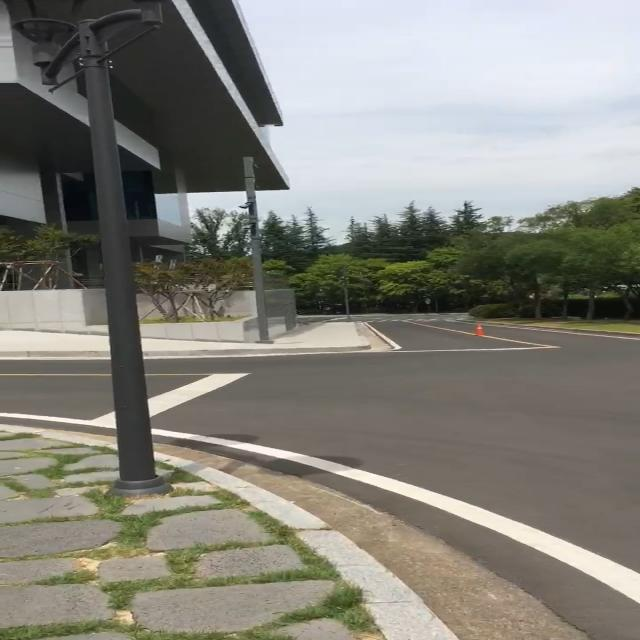obstacle: (79, 14, 159, 488)
road: (143, 334, 640, 640), (0, 352, 116, 436)
sidewalk: (0, 426, 461, 640), (142, 322, 368, 350)
